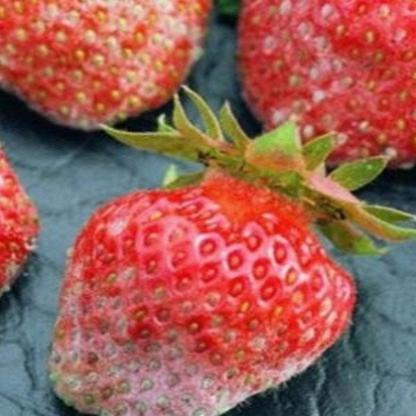Strawberry_Powdery_Mildew_Fruit: (44, 164, 358, 415), (235, 0, 415, 169), (0, 0, 218, 130)
